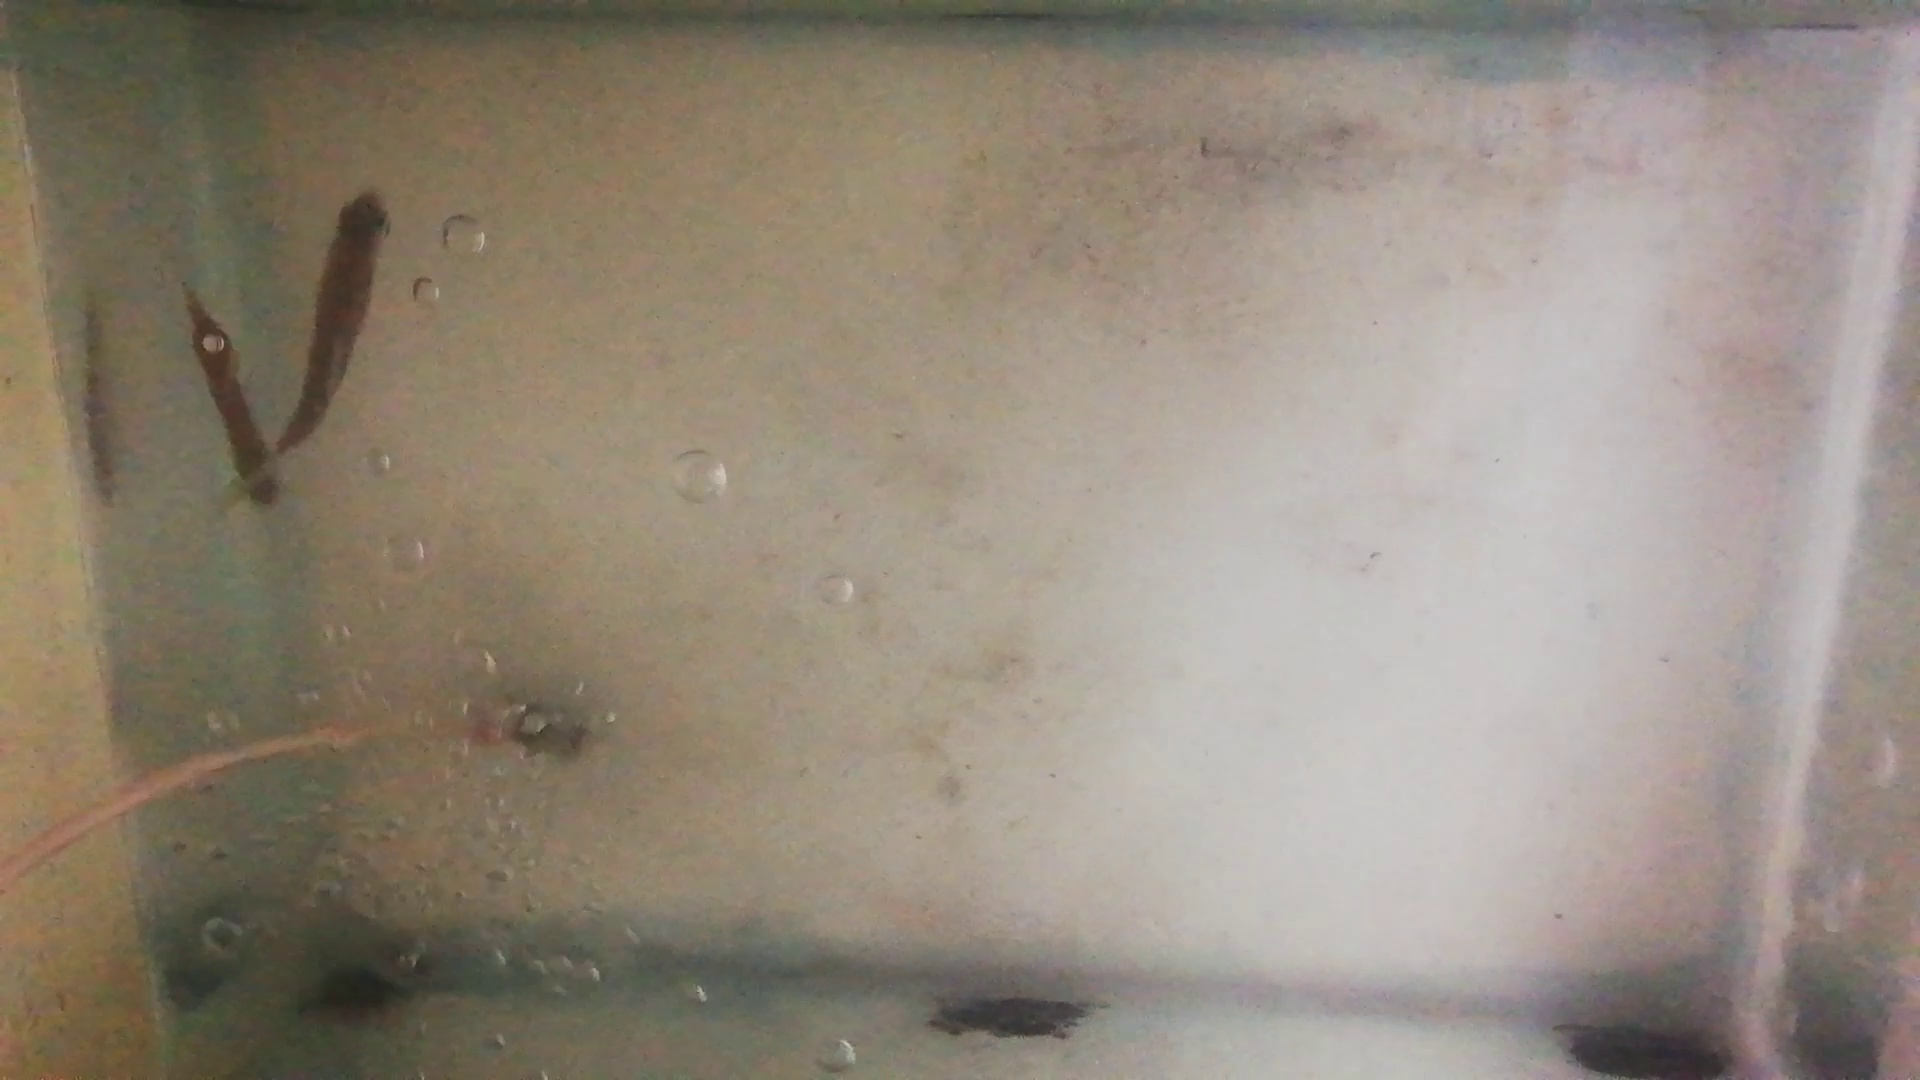fish: (274, 189, 396, 462), (185, 284, 284, 509)
